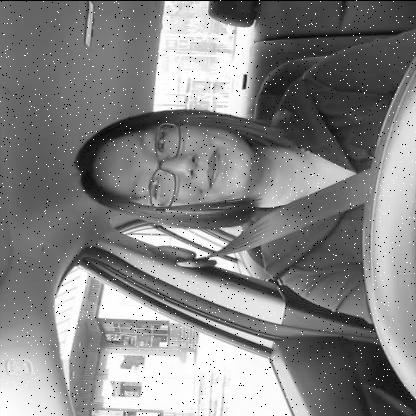seatbelt: (73, 98, 401, 274)
